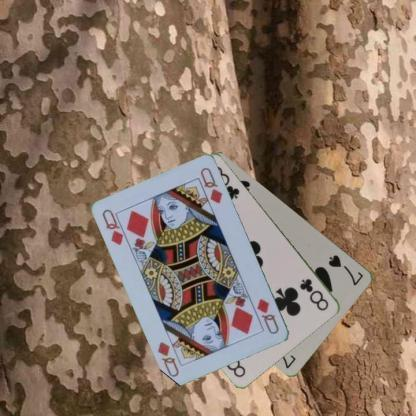7s: (326, 252, 366, 287)
8c: (297, 276, 330, 312)
Qd: (100, 206, 131, 247), (254, 296, 281, 336)
